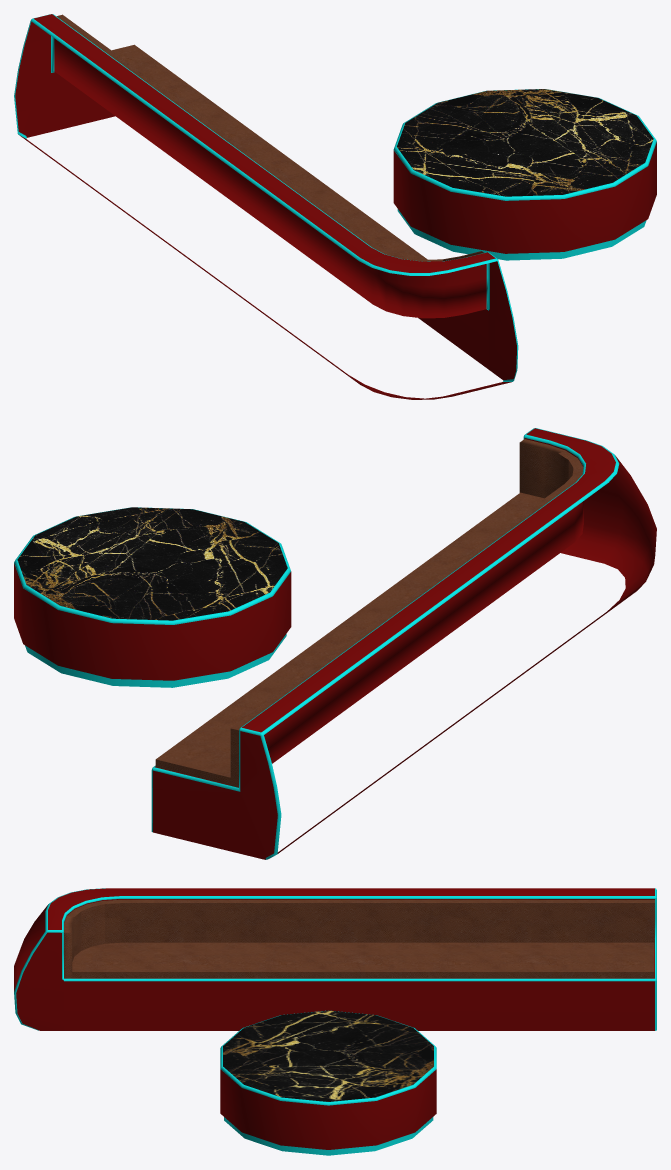
Rendered from New_Sofa_02.fbx.
3 views of the same model, one above another, from view 1: azimuth 30°, elevation 25°; view 2: azimuth 150°, elevation 25°; view 3: azimuth 270°, elevation 25° (orthographic). The views are drawn at different scales.
Parts seen in each view (by area): view 1: polySurface36; view 2: polySurface36; view 3: polySurface36.
Boxes of the visible parts, x1,y1,x2,y2 form: polySurface36: (14, 14, 656, 399); polySurface36: (14, 428, 656, 859); polySurface36: (14, 888, 656, 1155).
Size of the model in its own units: 389 by 103 by 599.
5 materials, 1 textured.
